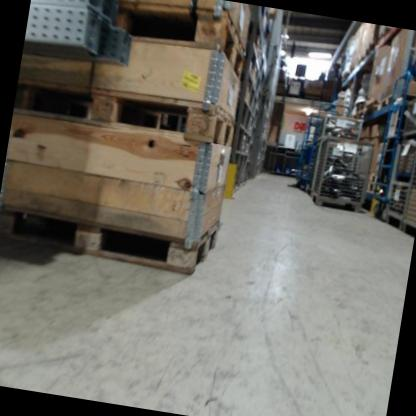pallet: (0, 184, 220, 279), (12, 71, 239, 151), (105, 0, 253, 83), (379, 87, 398, 109)
stillage: (305, 132, 376, 215), (301, 141, 355, 203), (381, 137, 416, 223), (316, 108, 364, 148), (398, 140, 416, 231), (398, 90, 416, 137)
